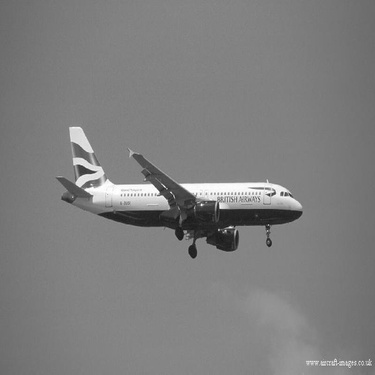airplane: (47, 115, 315, 265)
